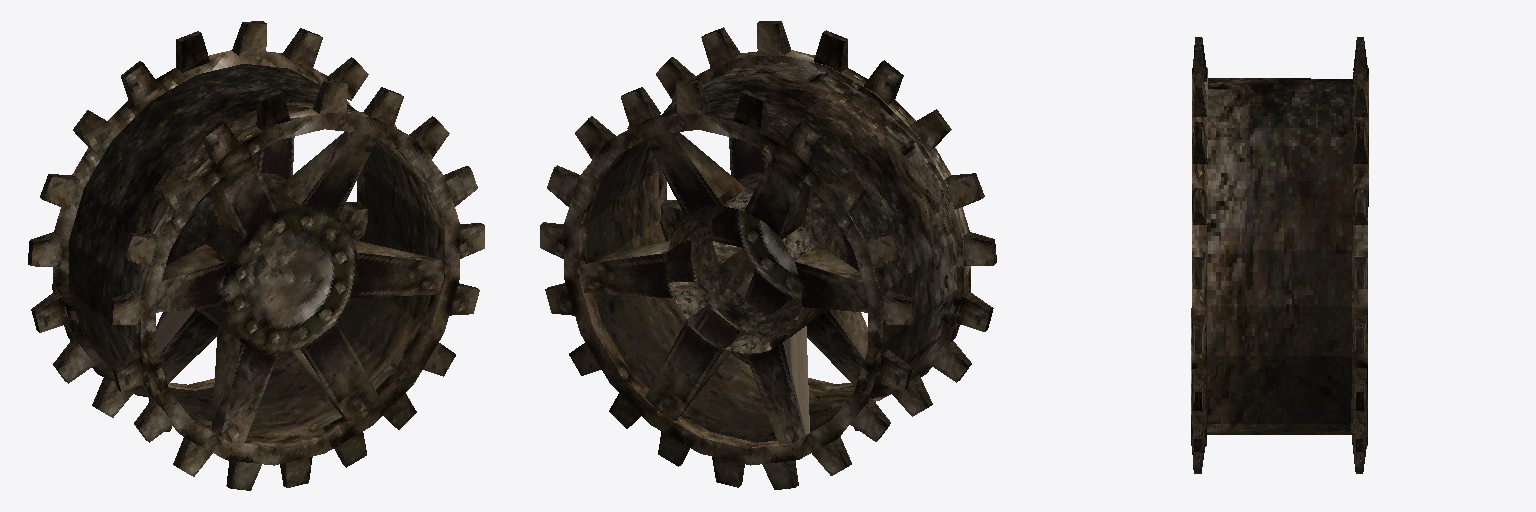
The picture shows the model from 3 angles: view 1: azimuth 30°, elevation 25°; view 2: azimuth 150°, elevation 25°; view 3: azimuth 270°, elevation 25°; orthographic projection.
Visible parts, largest first — view 1: front_l_Wheel_Wheel.001; view 2: front_l_Wheel_Wheel.001; view 3: front_l_Wheel_Wheel.001.
Boxes of the visible parts, <box> form: front_l_Wheel_Wheel.001: <box>28,21,484,490</box>; front_l_Wheel_Wheel.001: <box>540,21,996,489</box>; front_l_Wheel_Wheel.001: <box>1191,37,1368,473</box>.
Bounding box in the file's own units: 1.76 × 1.78 × 0.7226.
Materials: 1 (1 with a texture image).